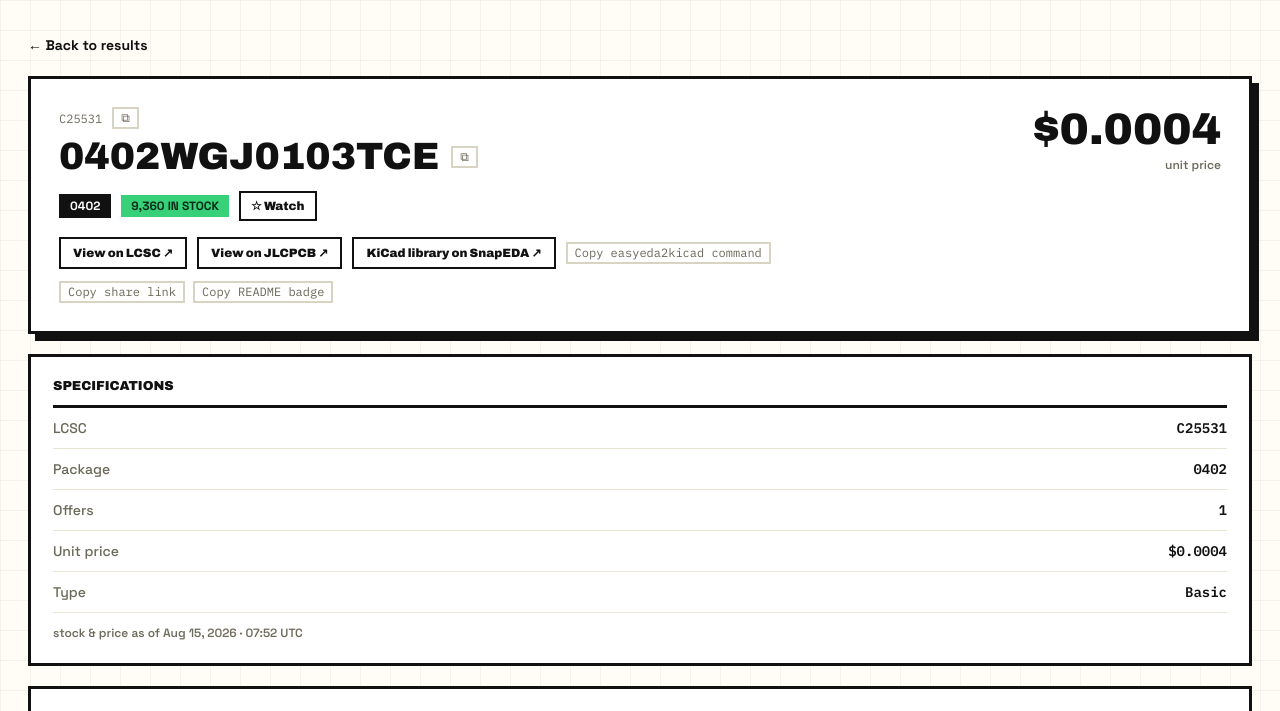
Test case: links to a CAD library search and copies the easyeda2kicad command for LCSC parts
Click the button with aria-label "copy kicad import command" at {"x": 668, "y": 253}, box [566,242,771,264]
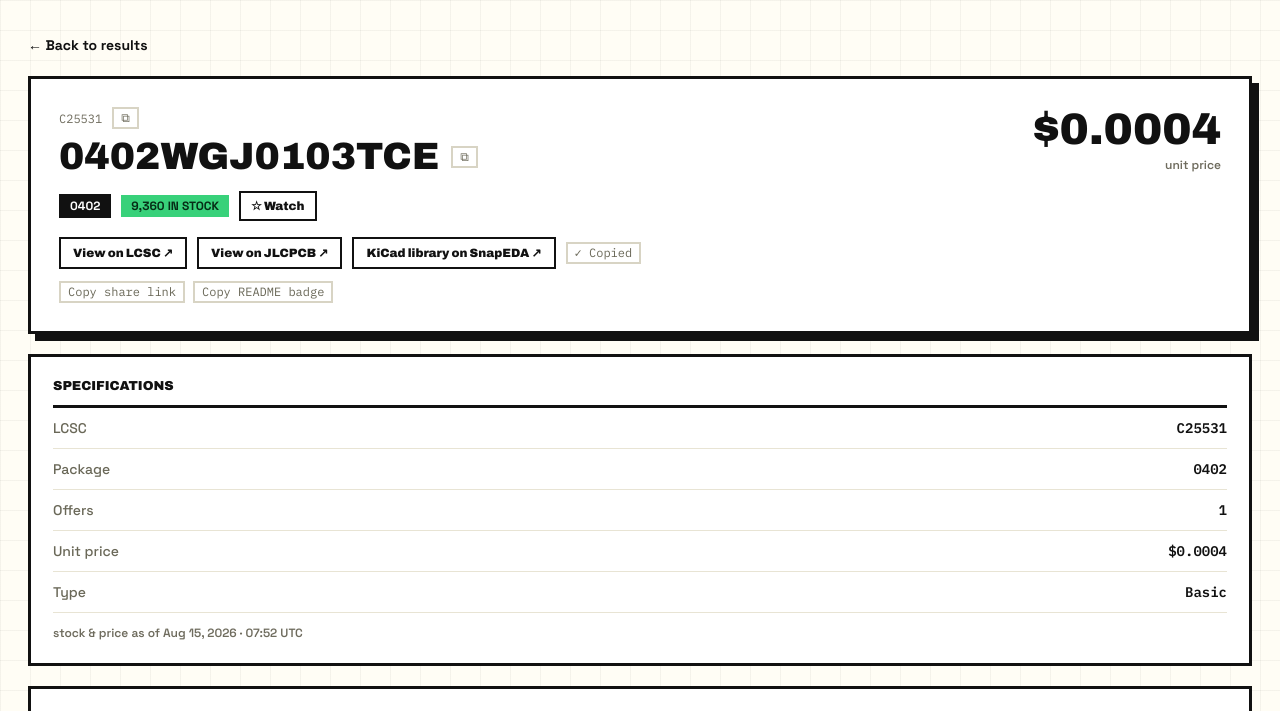
Now the button "✓ Copied" is shown, box [566,242,641,264]
